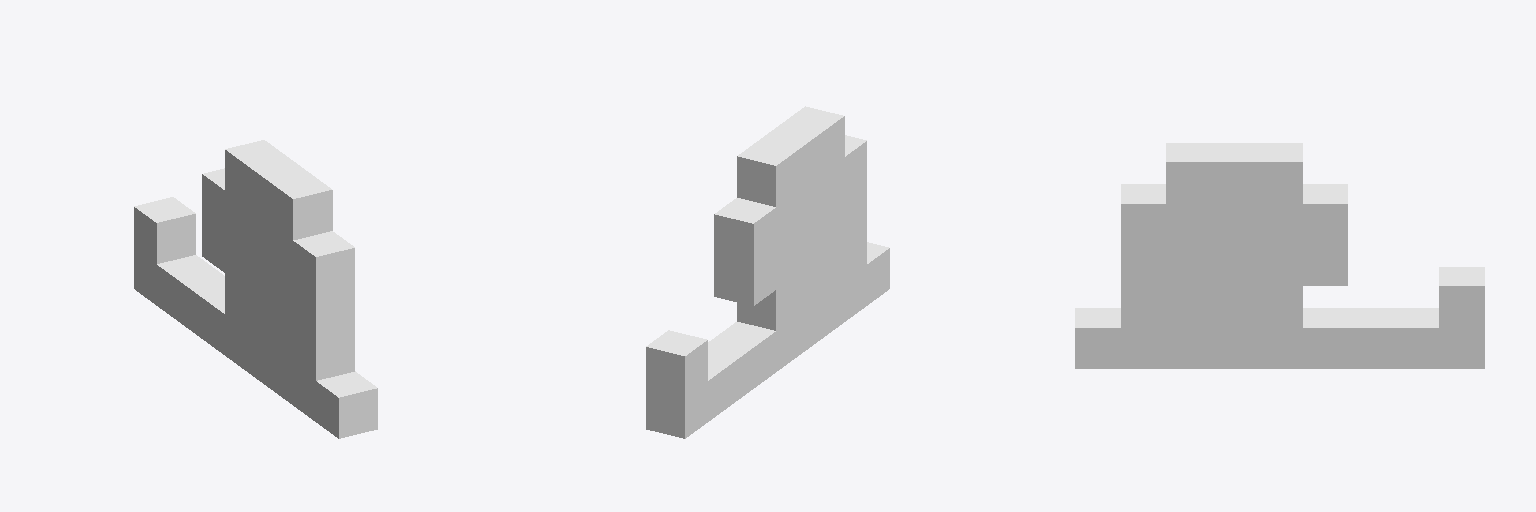
File: schnegge.obj
The picture shows the model from 3 angles: view 1: azimuth 30°, elevation 25°; view 2: azimuth 150°, elevation 25°; view 3: azimuth 270°, elevation 25°; orthographic projection.
Parts seen in each view (by area): view 1: object 1; view 2: object 1; view 3: object 1.
Part boxes in pixels (x1,y1,x2,y2): object 1: (134, 140, 377, 438); object 1: (646, 106, 889, 438); object 1: (1075, 143, 1484, 368).
Size of the model in its own units: 0.1 by 0.5 by 0.9.